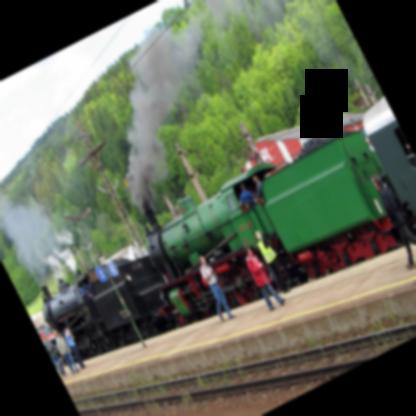backpack: (200, 266, 208, 287)
